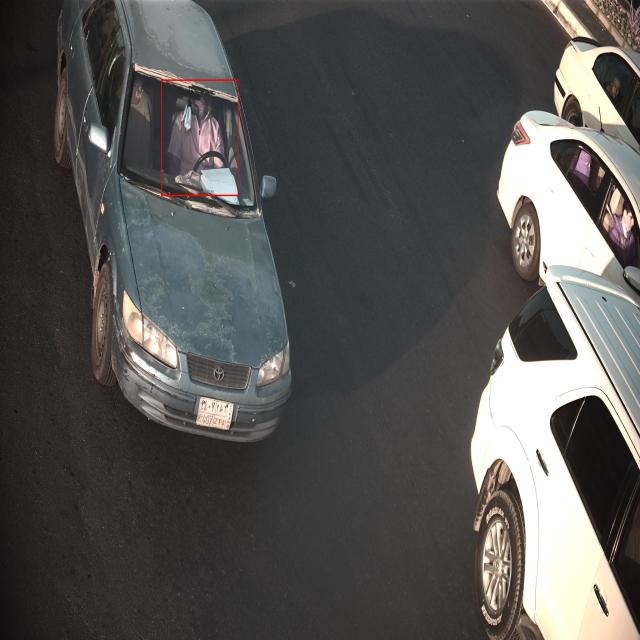windshield: (108, 60, 259, 222)
